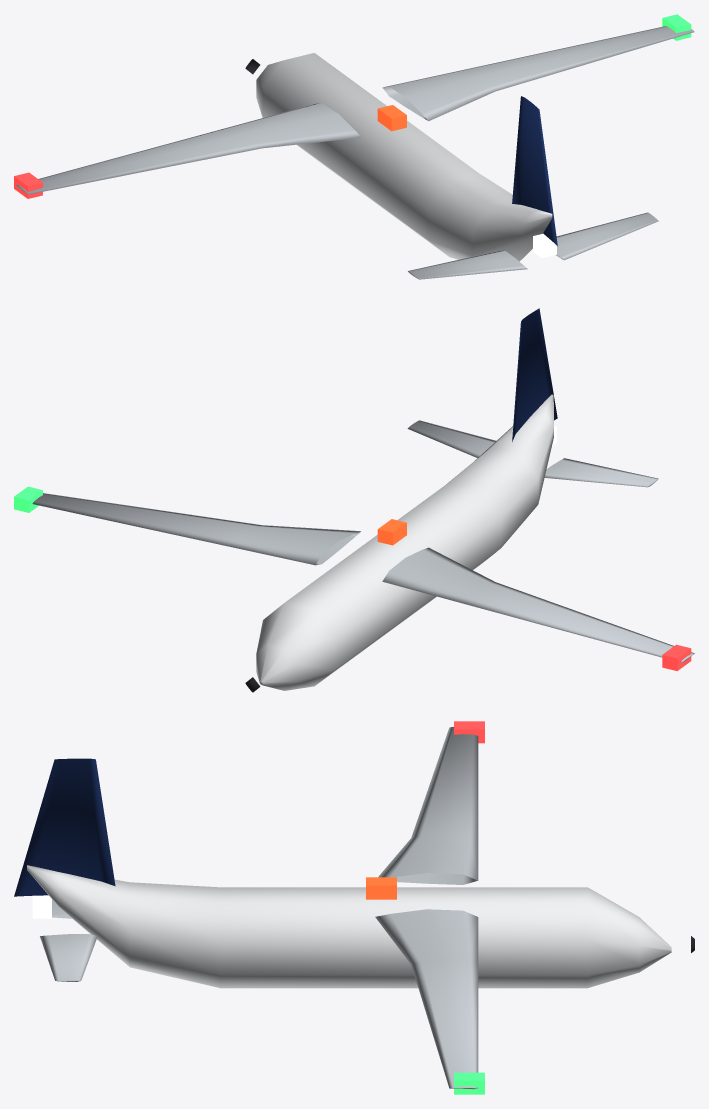
Rendered from fleet_light_lod2.glb.
3 views of the same model, one above another, from view 1: azimuth 30°, elevation 25°; view 2: azimuth 150°, elevation 25°; view 3: azimuth 270°, elevation 25° (orthographic). The views are drawn at different scales.
Visible parts, largest first — view 1: fleet_light_lod2_white, fleet_light_lod2_wing, fleet_light_lod2_blue, fleet_light_lod2_beacon, fleet_light_lod2_nav_red, fleet_light_lod2_nav_white, fleet_light_lod2_nav_green; view 2: fleet_light_lod2_white, fleet_light_lod2_wing, fleet_light_lod2_blue, fleet_light_lod2_beacon; view 3: fleet_light_lod2_white, fleet_light_lod2_wing, fleet_light_lod2_blue, fleet_light_lod2_beacon, fleet_light_lod2_nav_green.
Part boxes in pixels (x1,y1,x2,y2): fleet_light_lod2_white: (256, 53, 553, 261); fleet_light_lod2_wing: (16, 26, 694, 279); fleet_light_lod2_blue: (512, 96, 557, 246); fleet_light_lod2_beacon: (377, 105, 406, 131); fleet_light_lod2_nav_red: (14, 172, 42, 198); fleet_light_lod2_nav_white: (533, 233, 556, 258); fleet_light_lod2_nav_green: (662, 14, 691, 40); fleet_light_lod2_white: (256, 394, 553, 690); fleet_light_lod2_wing: (32, 420, 694, 662); fleet_light_lod2_blue: (512, 308, 557, 441); fleet_light_lod2_beacon: (377, 519, 406, 545); fleet_light_lod2_white: (27, 865, 671, 988); fleet_light_lod2_wing: (40, 726, 478, 1089); fleet_light_lod2_blue: (14, 758, 115, 896); fleet_light_lod2_beacon: (366, 877, 396, 899); fleet_light_lod2_nav_green: (454, 1072, 484, 1094).
Bounding box in the file's own units: 11 × 3.14 × 8.77.
